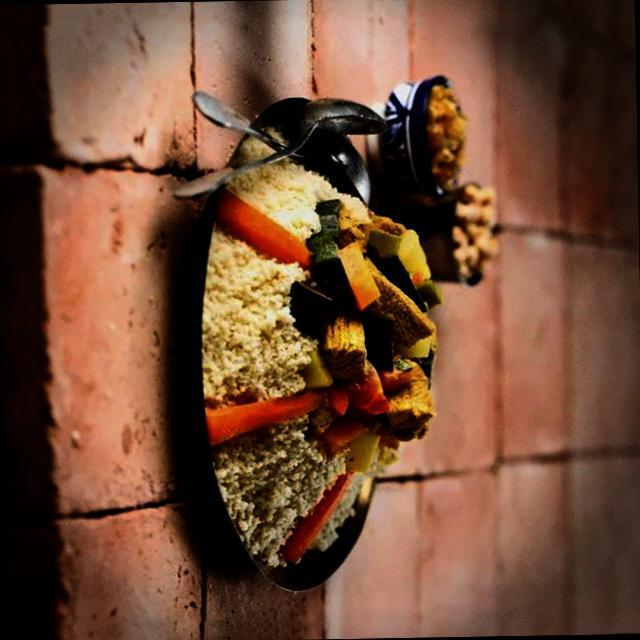Couscous: (191, 128, 446, 592)
